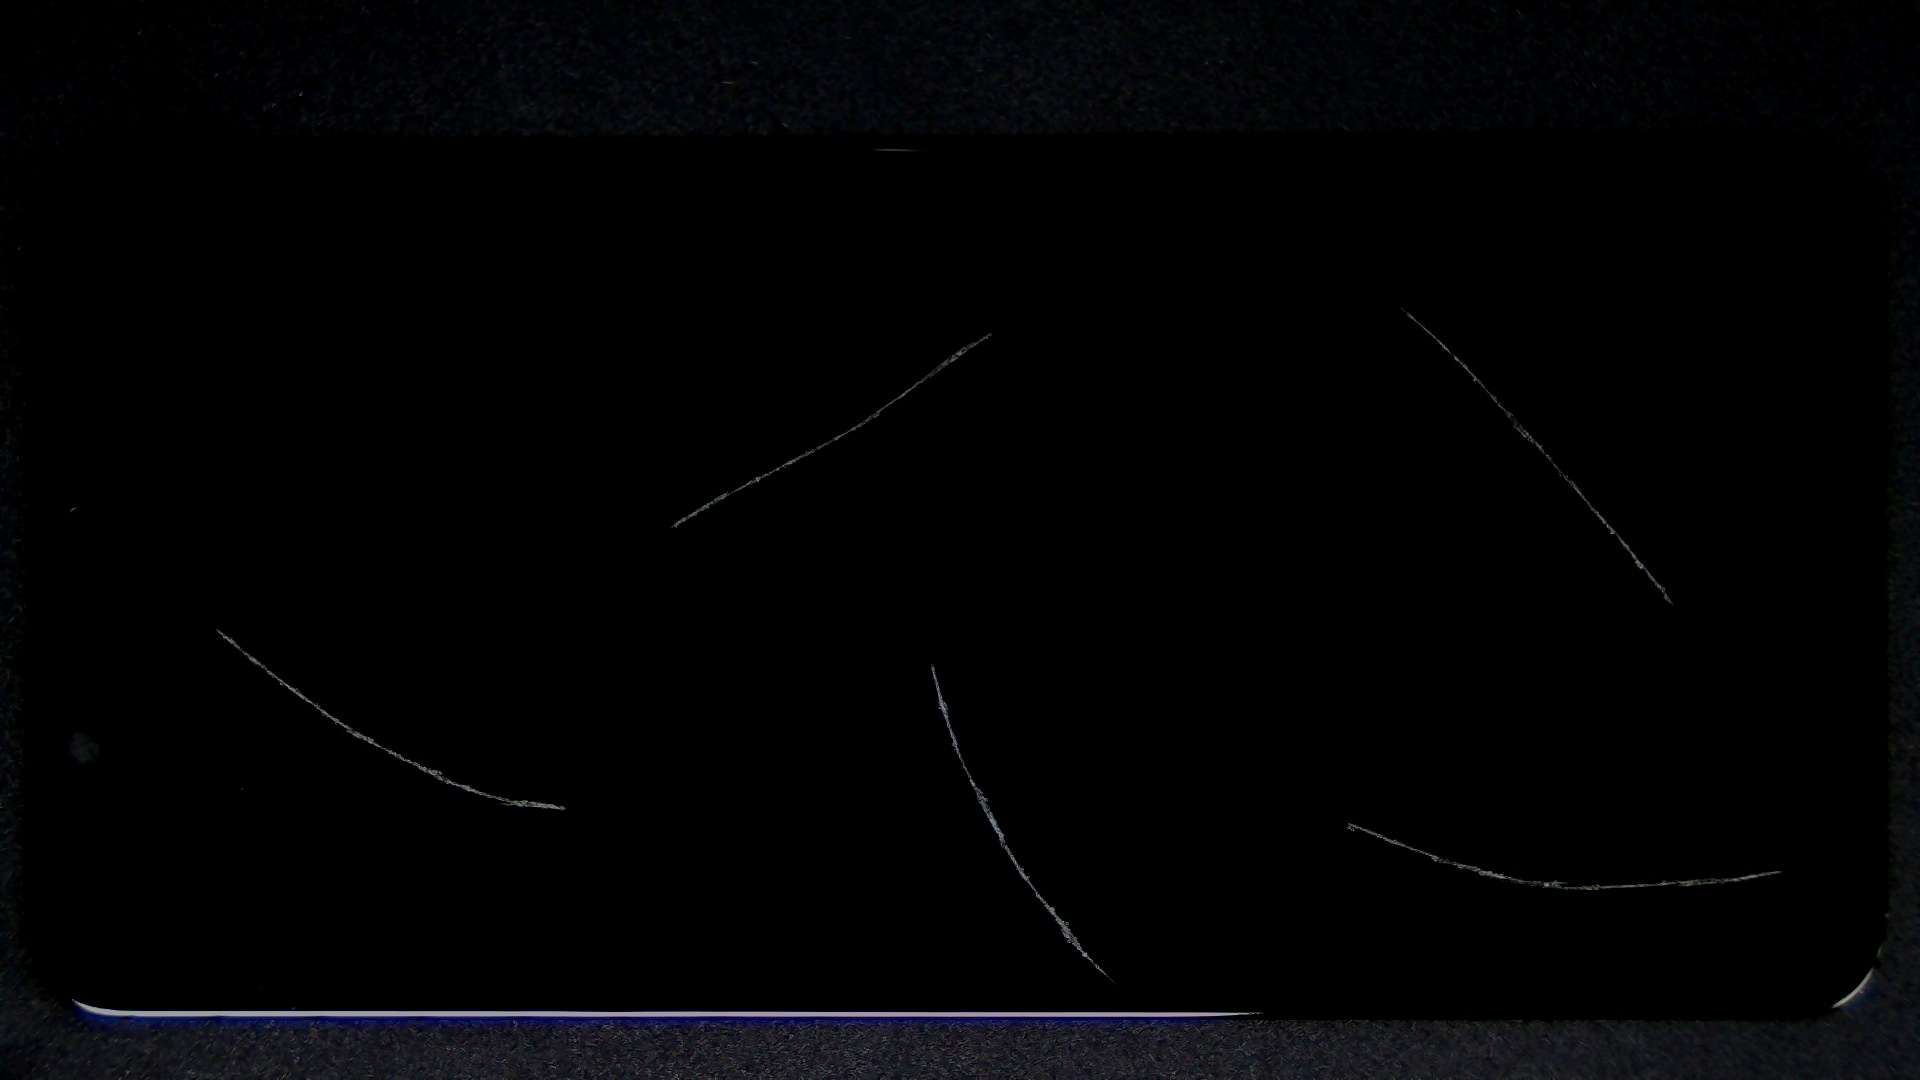oil: (673, 410, 1920, 1080), (465, 330, 1396, 997), (698, 150, 1920, 454), (496, 165, 1485, 496), (105, 311, 323, 942)
